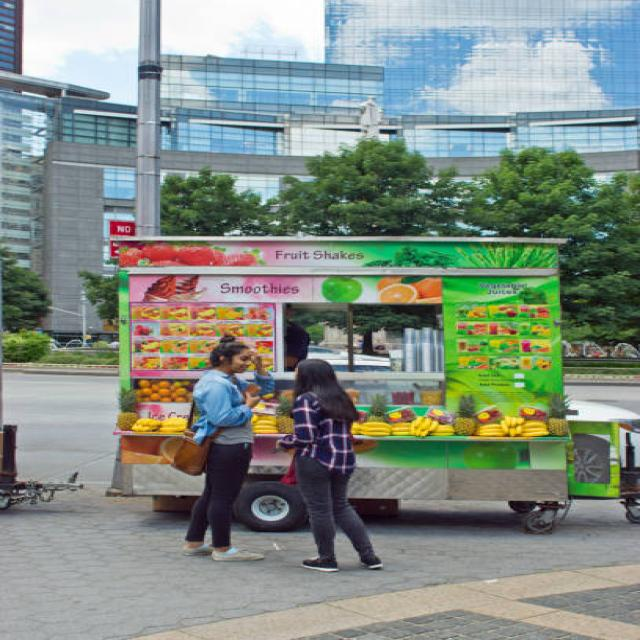Emperan: (76, 202, 617, 586)
